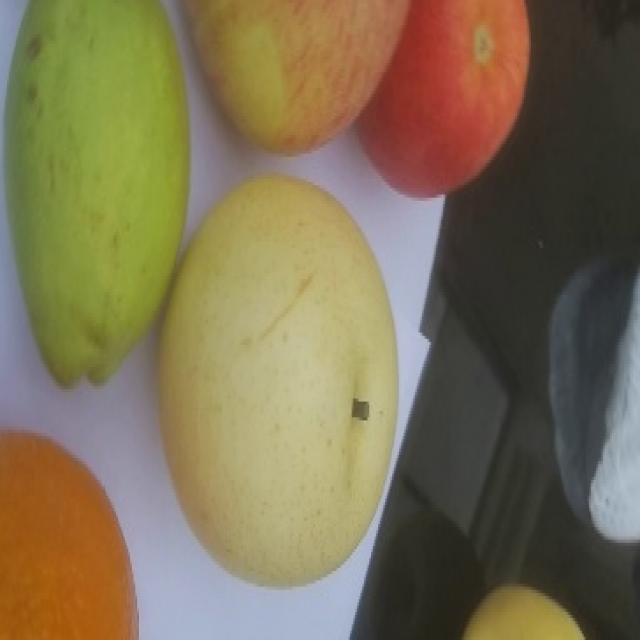Apple: (179, 0, 411, 156), (354, 0, 531, 200)
Orange: (0, 427, 139, 639)
